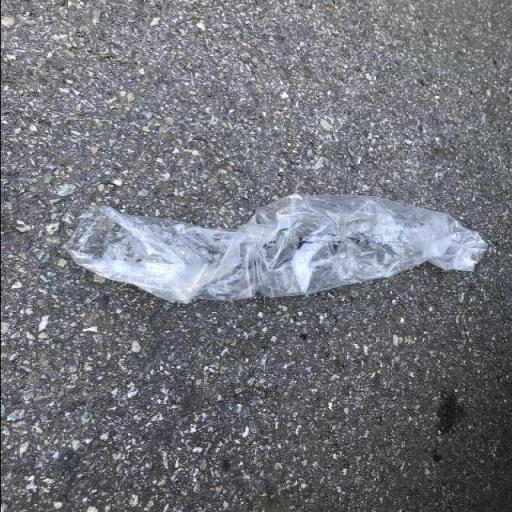plastic-bag: (60, 191, 492, 306)
